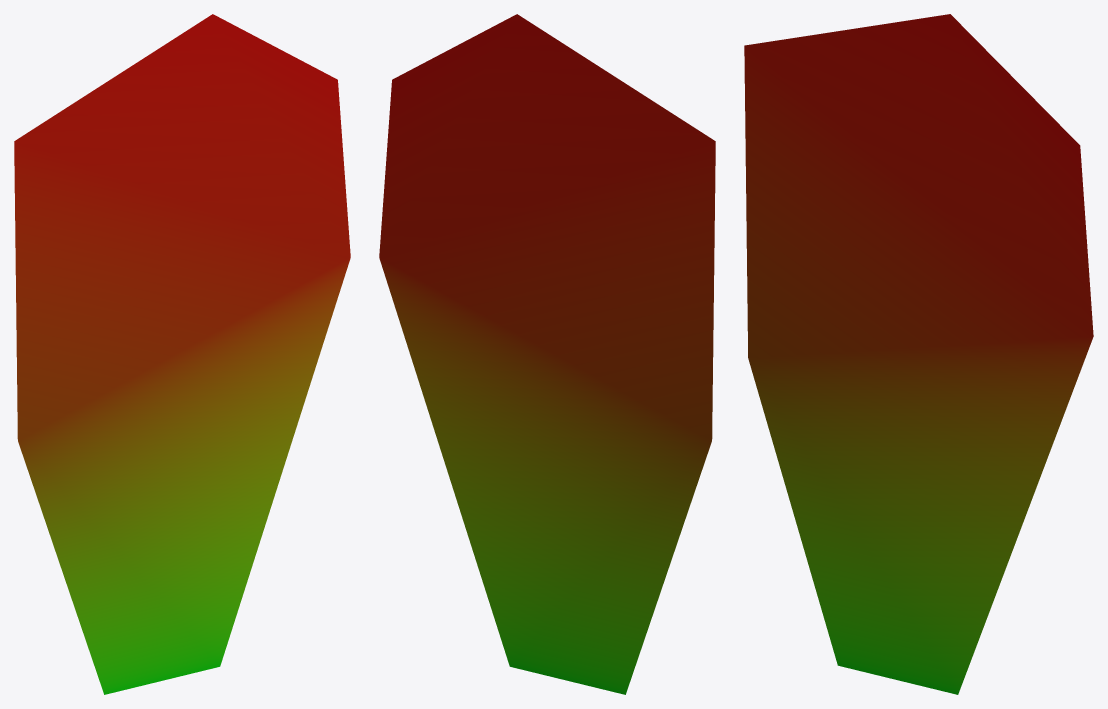
The model's file is ueyoebmia_Var4_LOD3.fbx.
The picture shows the model from 3 angles, left to right: view 1: azimuth 30°, elevation 25°; view 2: azimuth 150°, elevation 25°; view 3: azimuth 330°, elevation 25°; orthographic projection. The views are drawn at different scales.
Parts seen in each view (by area): view 1: _5121_Var4_LOD3; view 2: _5121_Var4_LOD3; view 3: _5121_Var4_LOD3.
Part boxes in pixels (x1,y1,x2,y2): _5121_Var4_LOD3: (14,14,350,694); _5121_Var4_LOD3: (379,14,715,694); _5121_Var4_LOD3: (744,14,1093,694).
Size of the model in its own units: 22.48 by 41.77 by 1.91e-06.
